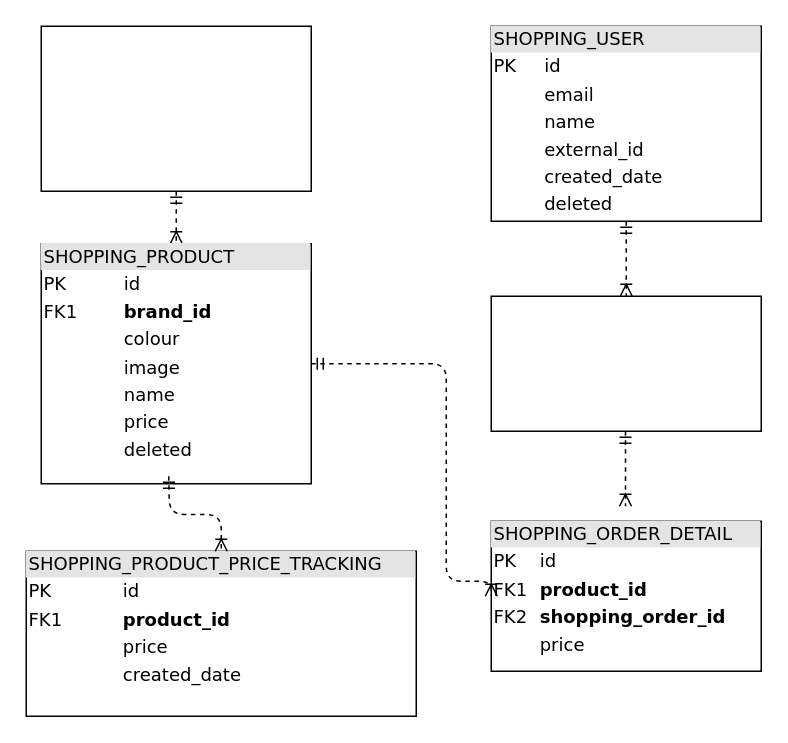
Some shapes in this 788 by 743 pixel diagram are drawn without their labels. The shapes that lost their labels are listed below. From the top down, each one's centre as x and y in pixels, then its label:
(175,108): SHOPPING_BRAND PK id name created_date deleted
(625,363): SHOPPING_ORDER PK id FK1 user_id created_date total_price
